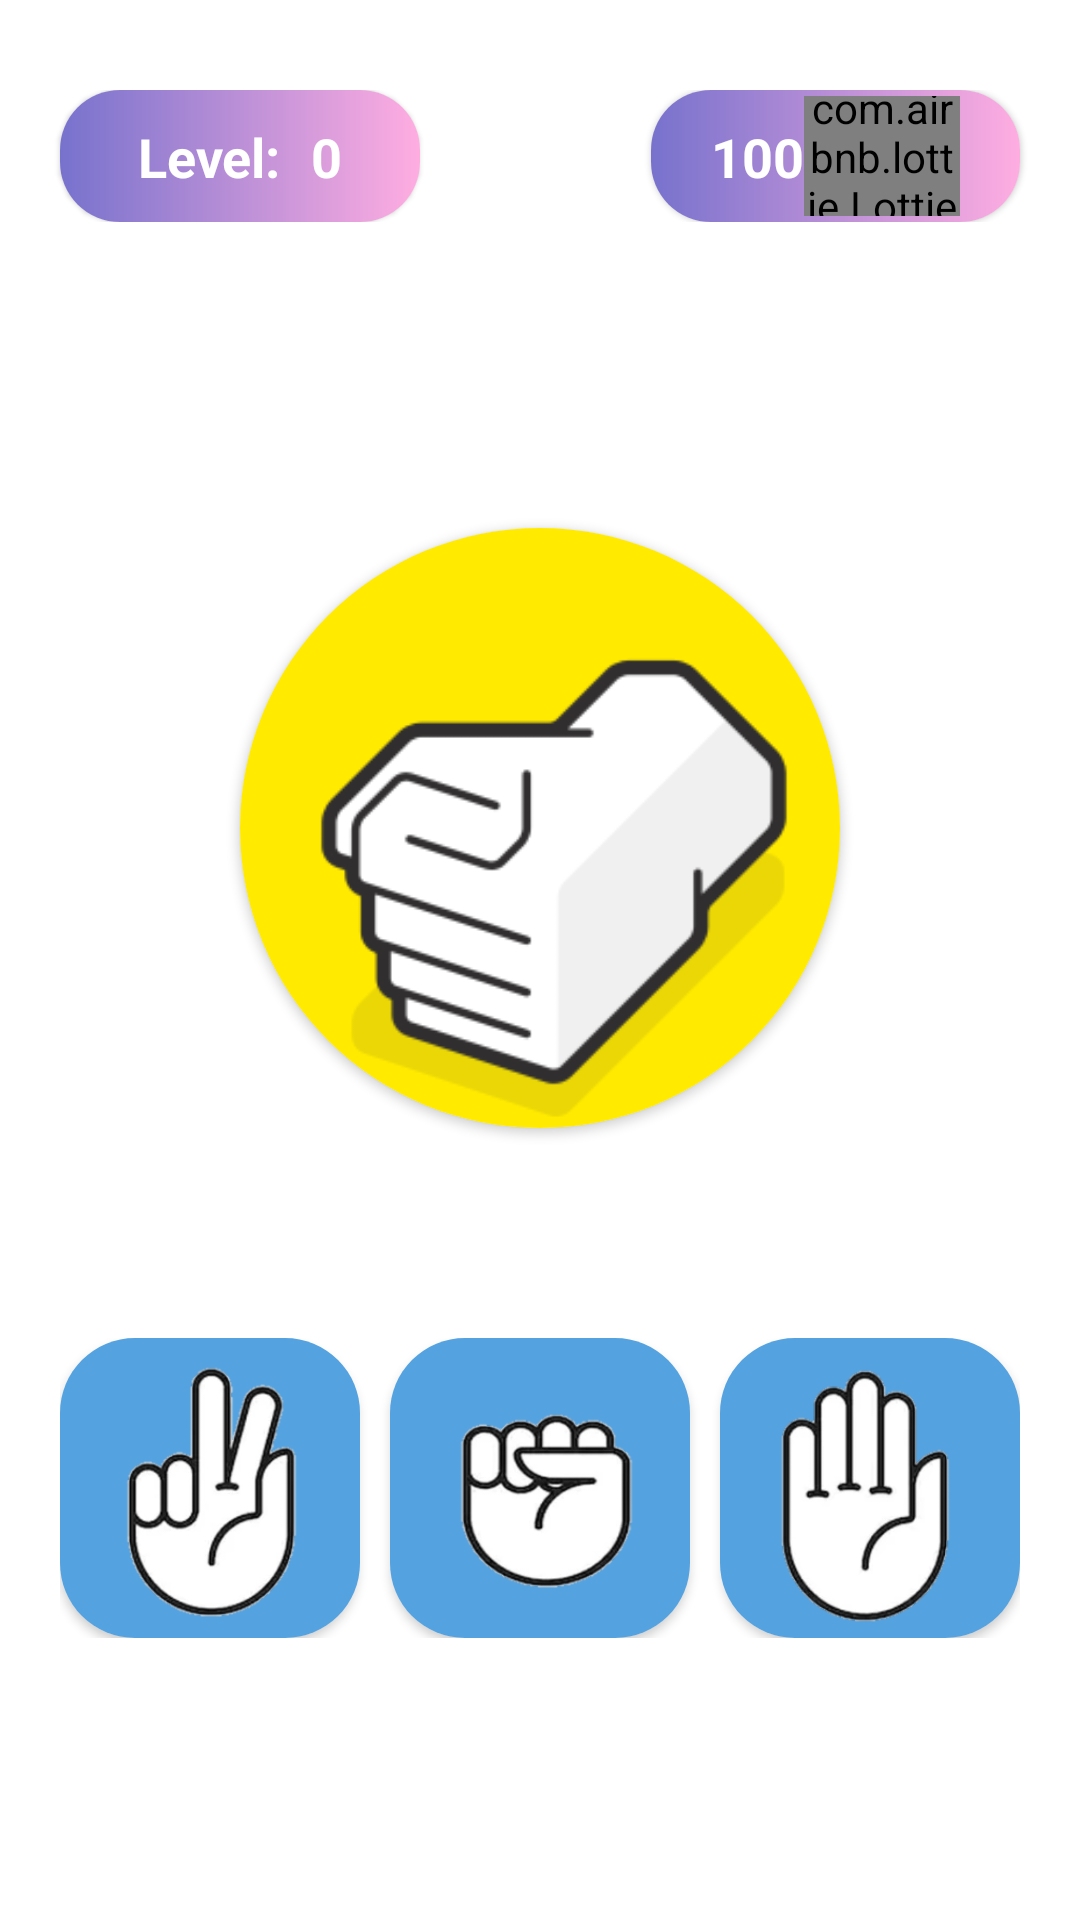

Named icons in this screenshot (1080×1920) and their bounding boxes, (x1, y1, x2, y2):
scissors: (60, 1338, 360, 1638)
